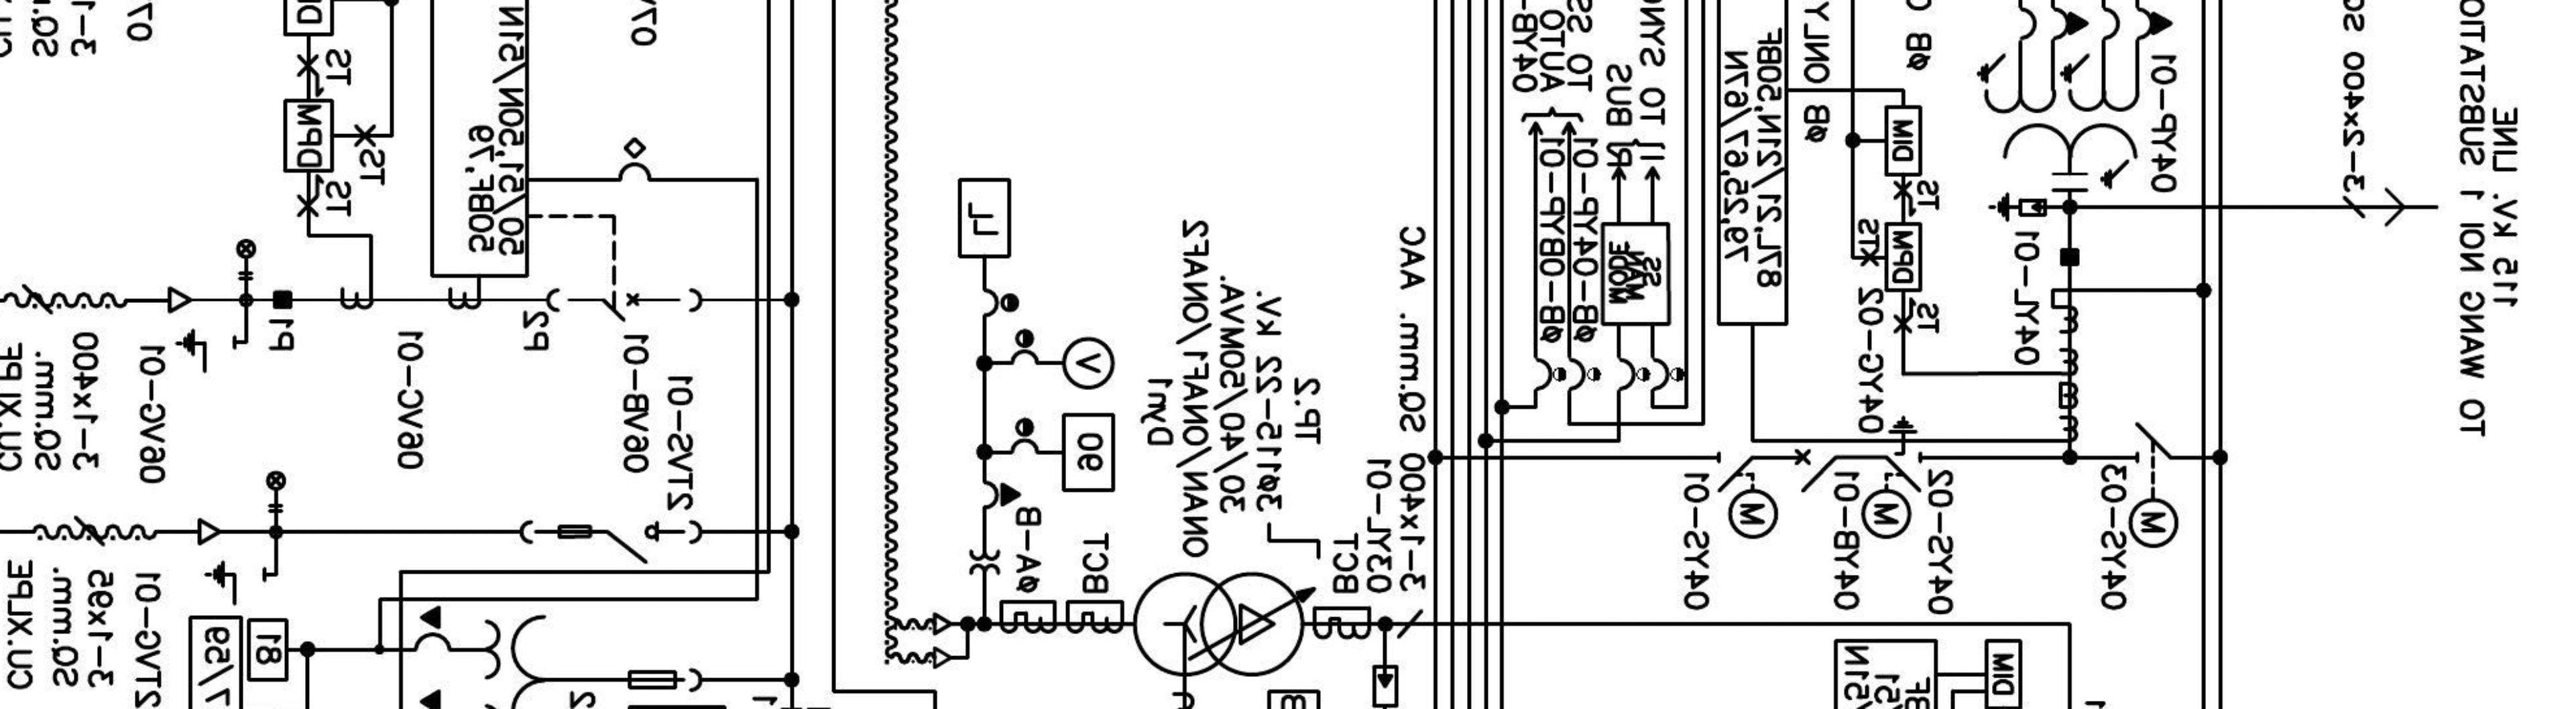11522_tx_dyn1: (1132, 570, 1306, 678)
115_1way_ds_w_motor: (2127, 421, 2180, 549), (1716, 451, 1779, 540)
115_3ways_ds_w_motor: (1860, 414, 1923, 540)
115_breaker: (1794, 448, 1837, 493)
115_cvt_1p: (1975, 4, 2174, 193)
115_la: (1987, 192, 2048, 222)
22_breaker: (546, 287, 703, 324)
22_ds: (518, 519, 704, 564)
22_gs: (204, 560, 267, 606), (174, 328, 237, 375)
22_ll: (265, 470, 287, 513), (235, 239, 257, 281)
DIM: (1884, 105, 1922, 176)
DPM: (283, 99, 335, 173), (1884, 222, 1922, 293)
LL: (957, 178, 1012, 259)
ss_man_mode: (1600, 221, 1672, 326)
terminator_double: (932, 612, 971, 669)
terminator_single: (197, 517, 225, 546), (167, 285, 195, 314)
v_m: (1061, 336, 1116, 391)
